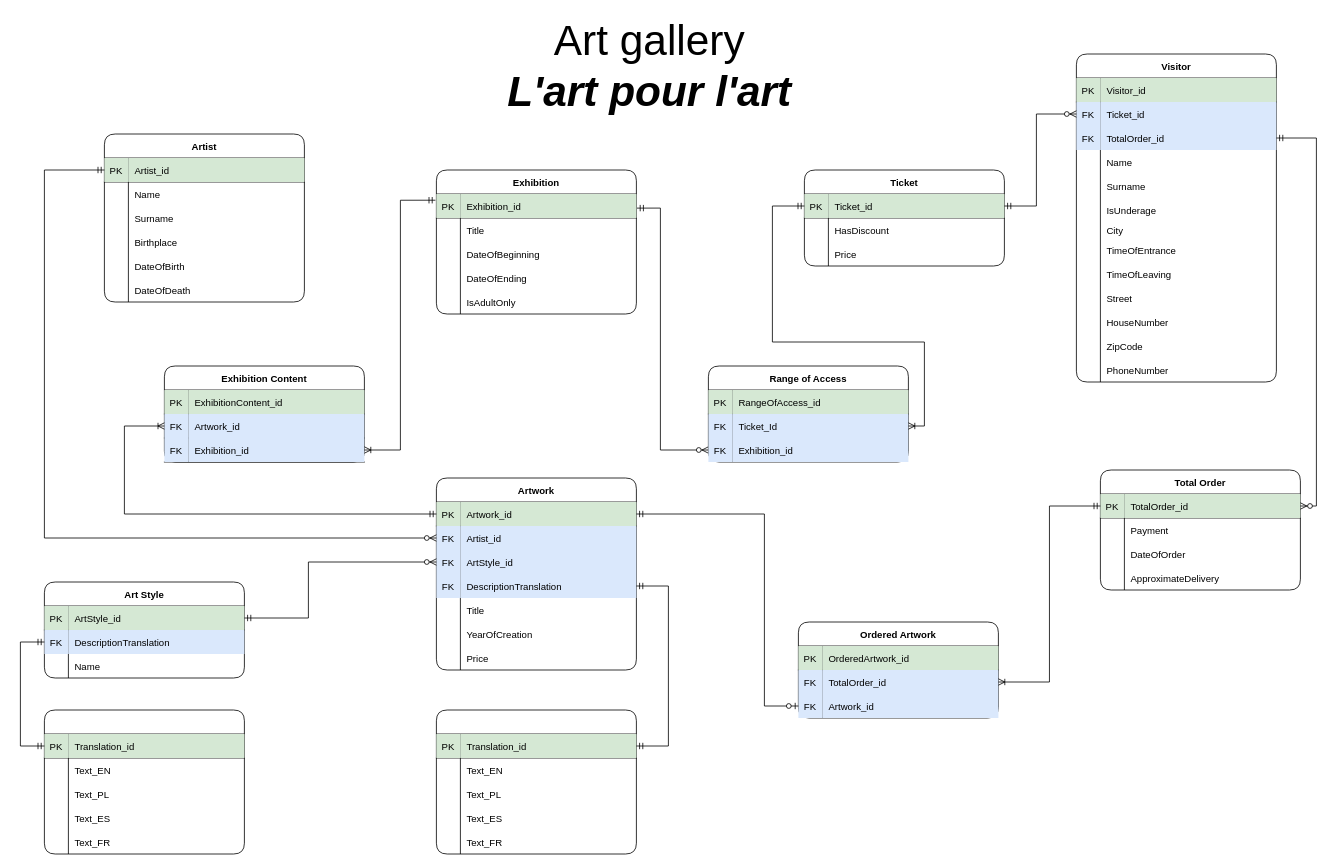
The diagram is 1338 pixels wide and 868 high, and some of its shapes have lost their labels. Each missing label, with the box of its shape:
Art Style Translation: (44, 709, 244, 854)
Artwork Translation: (436, 709, 636, 854)
